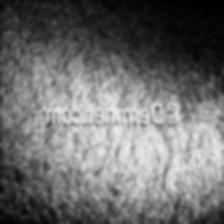Non-Cancerous Skin Condition: (0, 0, 224, 94), (0, 134, 171, 223)
